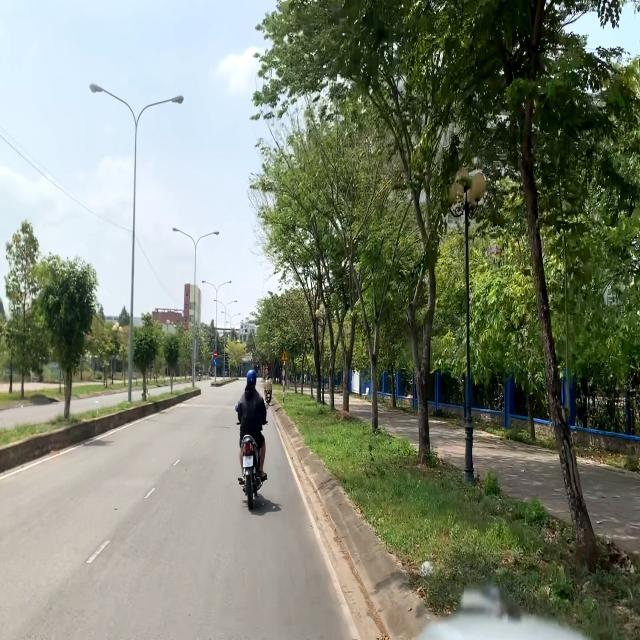Cam di nguoc chieu: (213, 350, 218, 358)
Giao nhau voi duong khong uu tien ben phai: (281, 350, 289, 362)
Vong chuong ngai vat sang phai: (212, 358, 218, 366)
